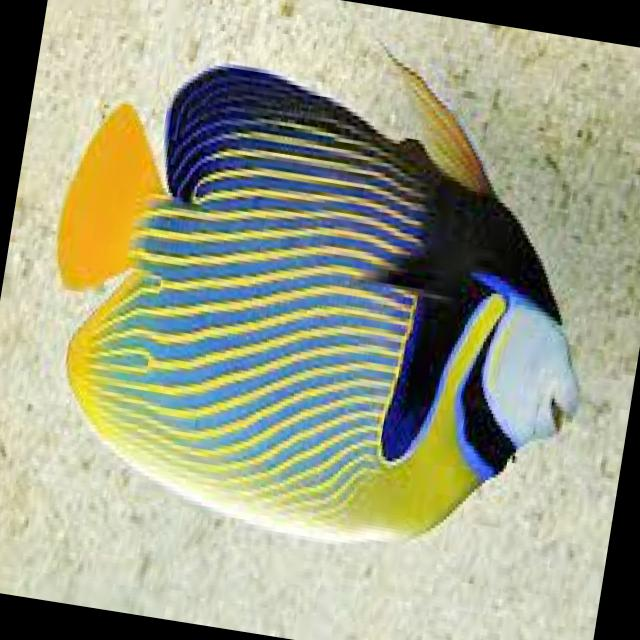AngelFish: (20, 16, 618, 576)
